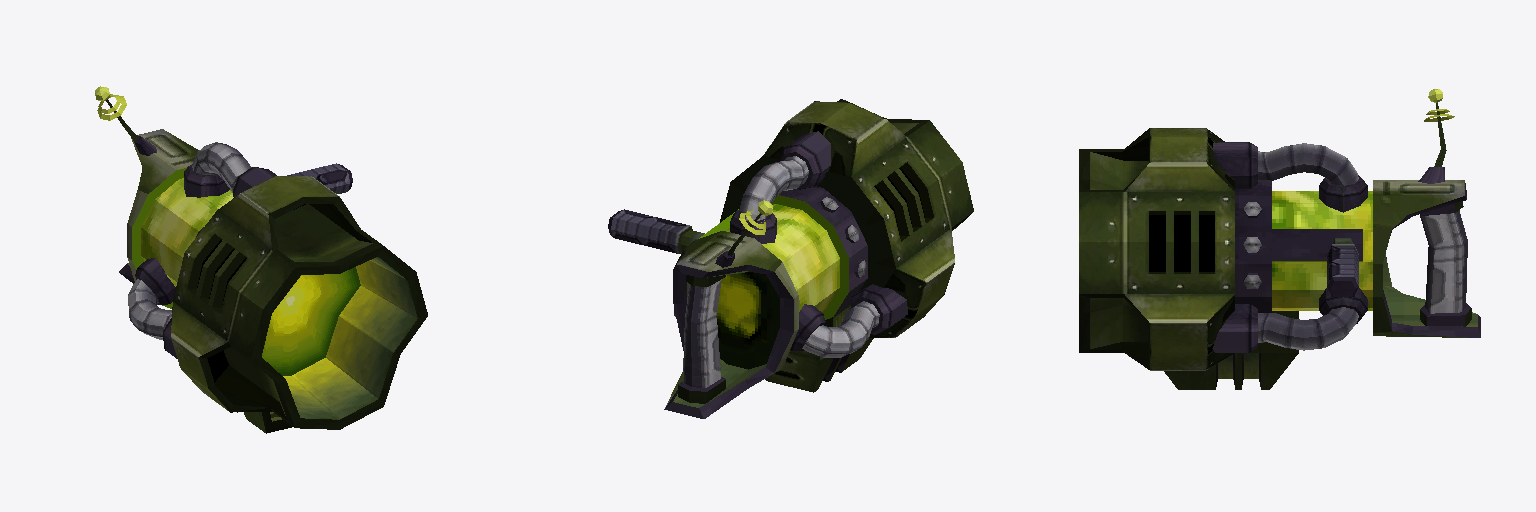
3 renders of one model, left to right at view 1: azimuth 30°, elevation 25°; view 2: azimuth 150°, elevation 25°; view 3: azimuth 270°, elevation 25°, orthographic.
Parts seen in each view (by area): view 1: TetrabombGun; view 2: TetrabombGun; view 3: TetrabombGun.
Boxes of the visible parts, x1=… form: TetrabombGun: x1=95, y1=86, x2=427, y2=433; TetrabombGun: x1=608, y1=99, x2=973, y2=418; TetrabombGun: x1=1079, y1=89, x2=1480, y2=389.
Size of the model in its own units: 25.46 by 25.93 by 36.31.
Materials: 1 (1 with a texture image).